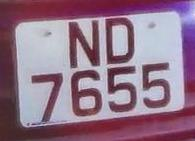5: (138, 58, 175, 117), (105, 63, 140, 120)
6: (68, 63, 108, 126)
7: (27, 65, 68, 128)
D: (99, 13, 138, 66)
N: (64, 16, 106, 72)
